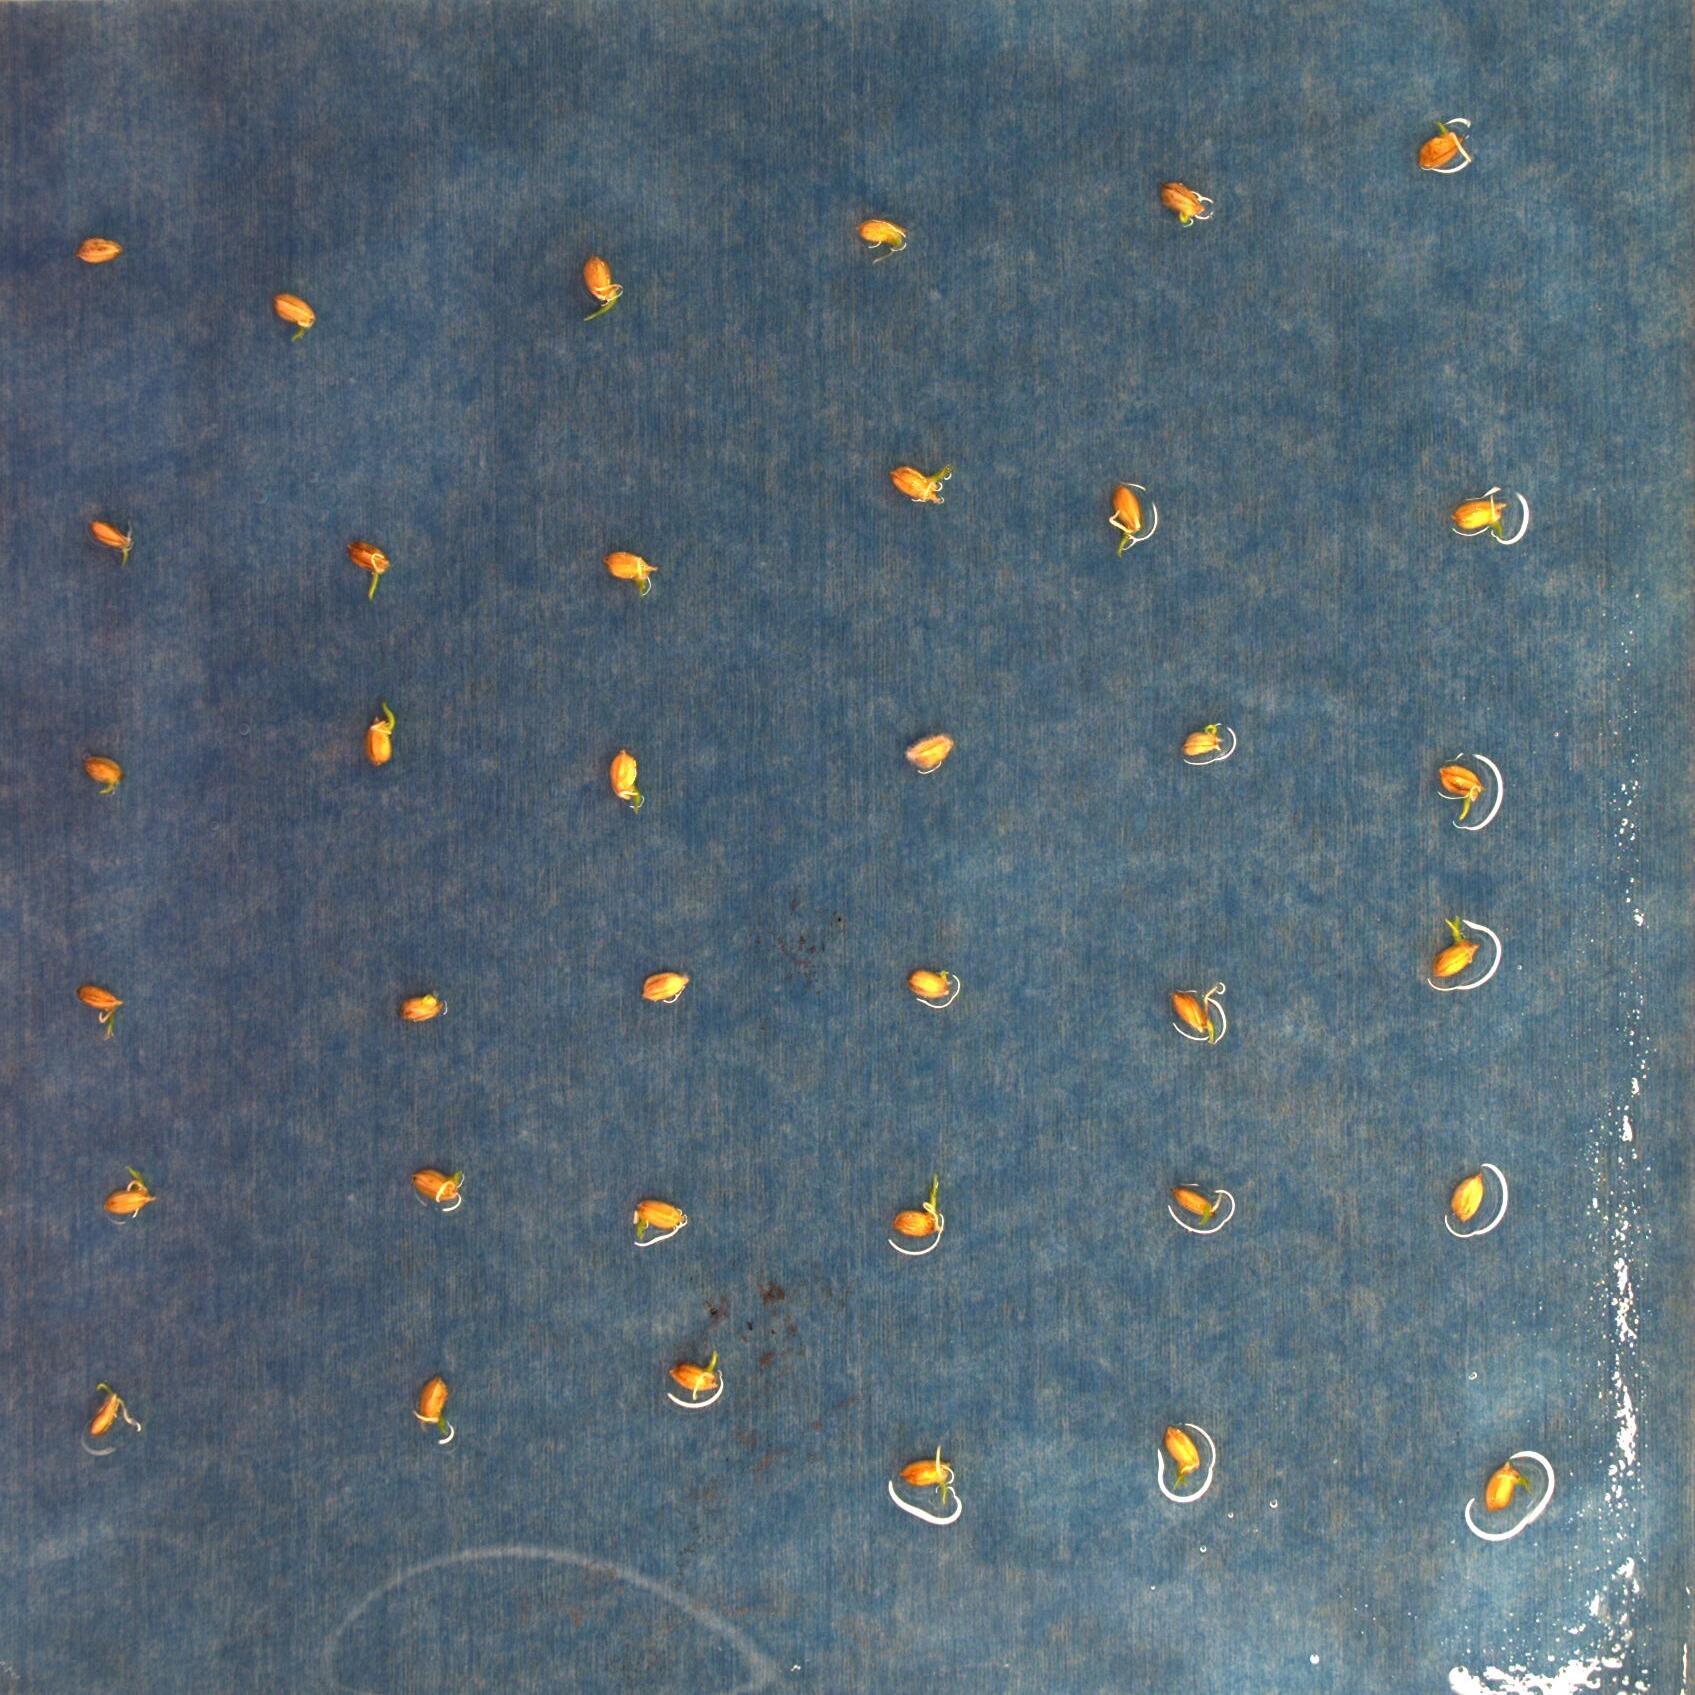not sprout: (1156, 174, 1215, 230), (92, 1381, 147, 1436), (602, 539, 657, 591), (1412, 115, 1465, 168), (1450, 494, 1506, 543), (405, 1163, 469, 1205), (855, 213, 906, 262), (269, 293, 317, 340), (93, 512, 138, 559), (82, 744, 124, 793), (906, 730, 951, 773), (1454, 1170, 1489, 1226), (636, 969, 685, 1006), (78, 983, 132, 1015), (906, 962, 955, 998), (393, 990, 449, 1020), (1183, 723, 1223, 761), (76, 234, 124, 262)
sprout: (1423, 914, 1482, 979), (1164, 1425, 1215, 1495), (889, 1177, 950, 1236), (1482, 1459, 1538, 1521), (899, 1448, 958, 1506), (1170, 979, 1218, 1046), (349, 539, 397, 601), (893, 456, 951, 506), (1437, 757, 1485, 818), (1107, 477, 1142, 557), (407, 1381, 456, 1439), (102, 1163, 157, 1214), (362, 698, 400, 768), (667, 1350, 723, 1399), (585, 255, 622, 326), (632, 1195, 689, 1240), (613, 745, 644, 810), (1177, 1183, 1223, 1226)
